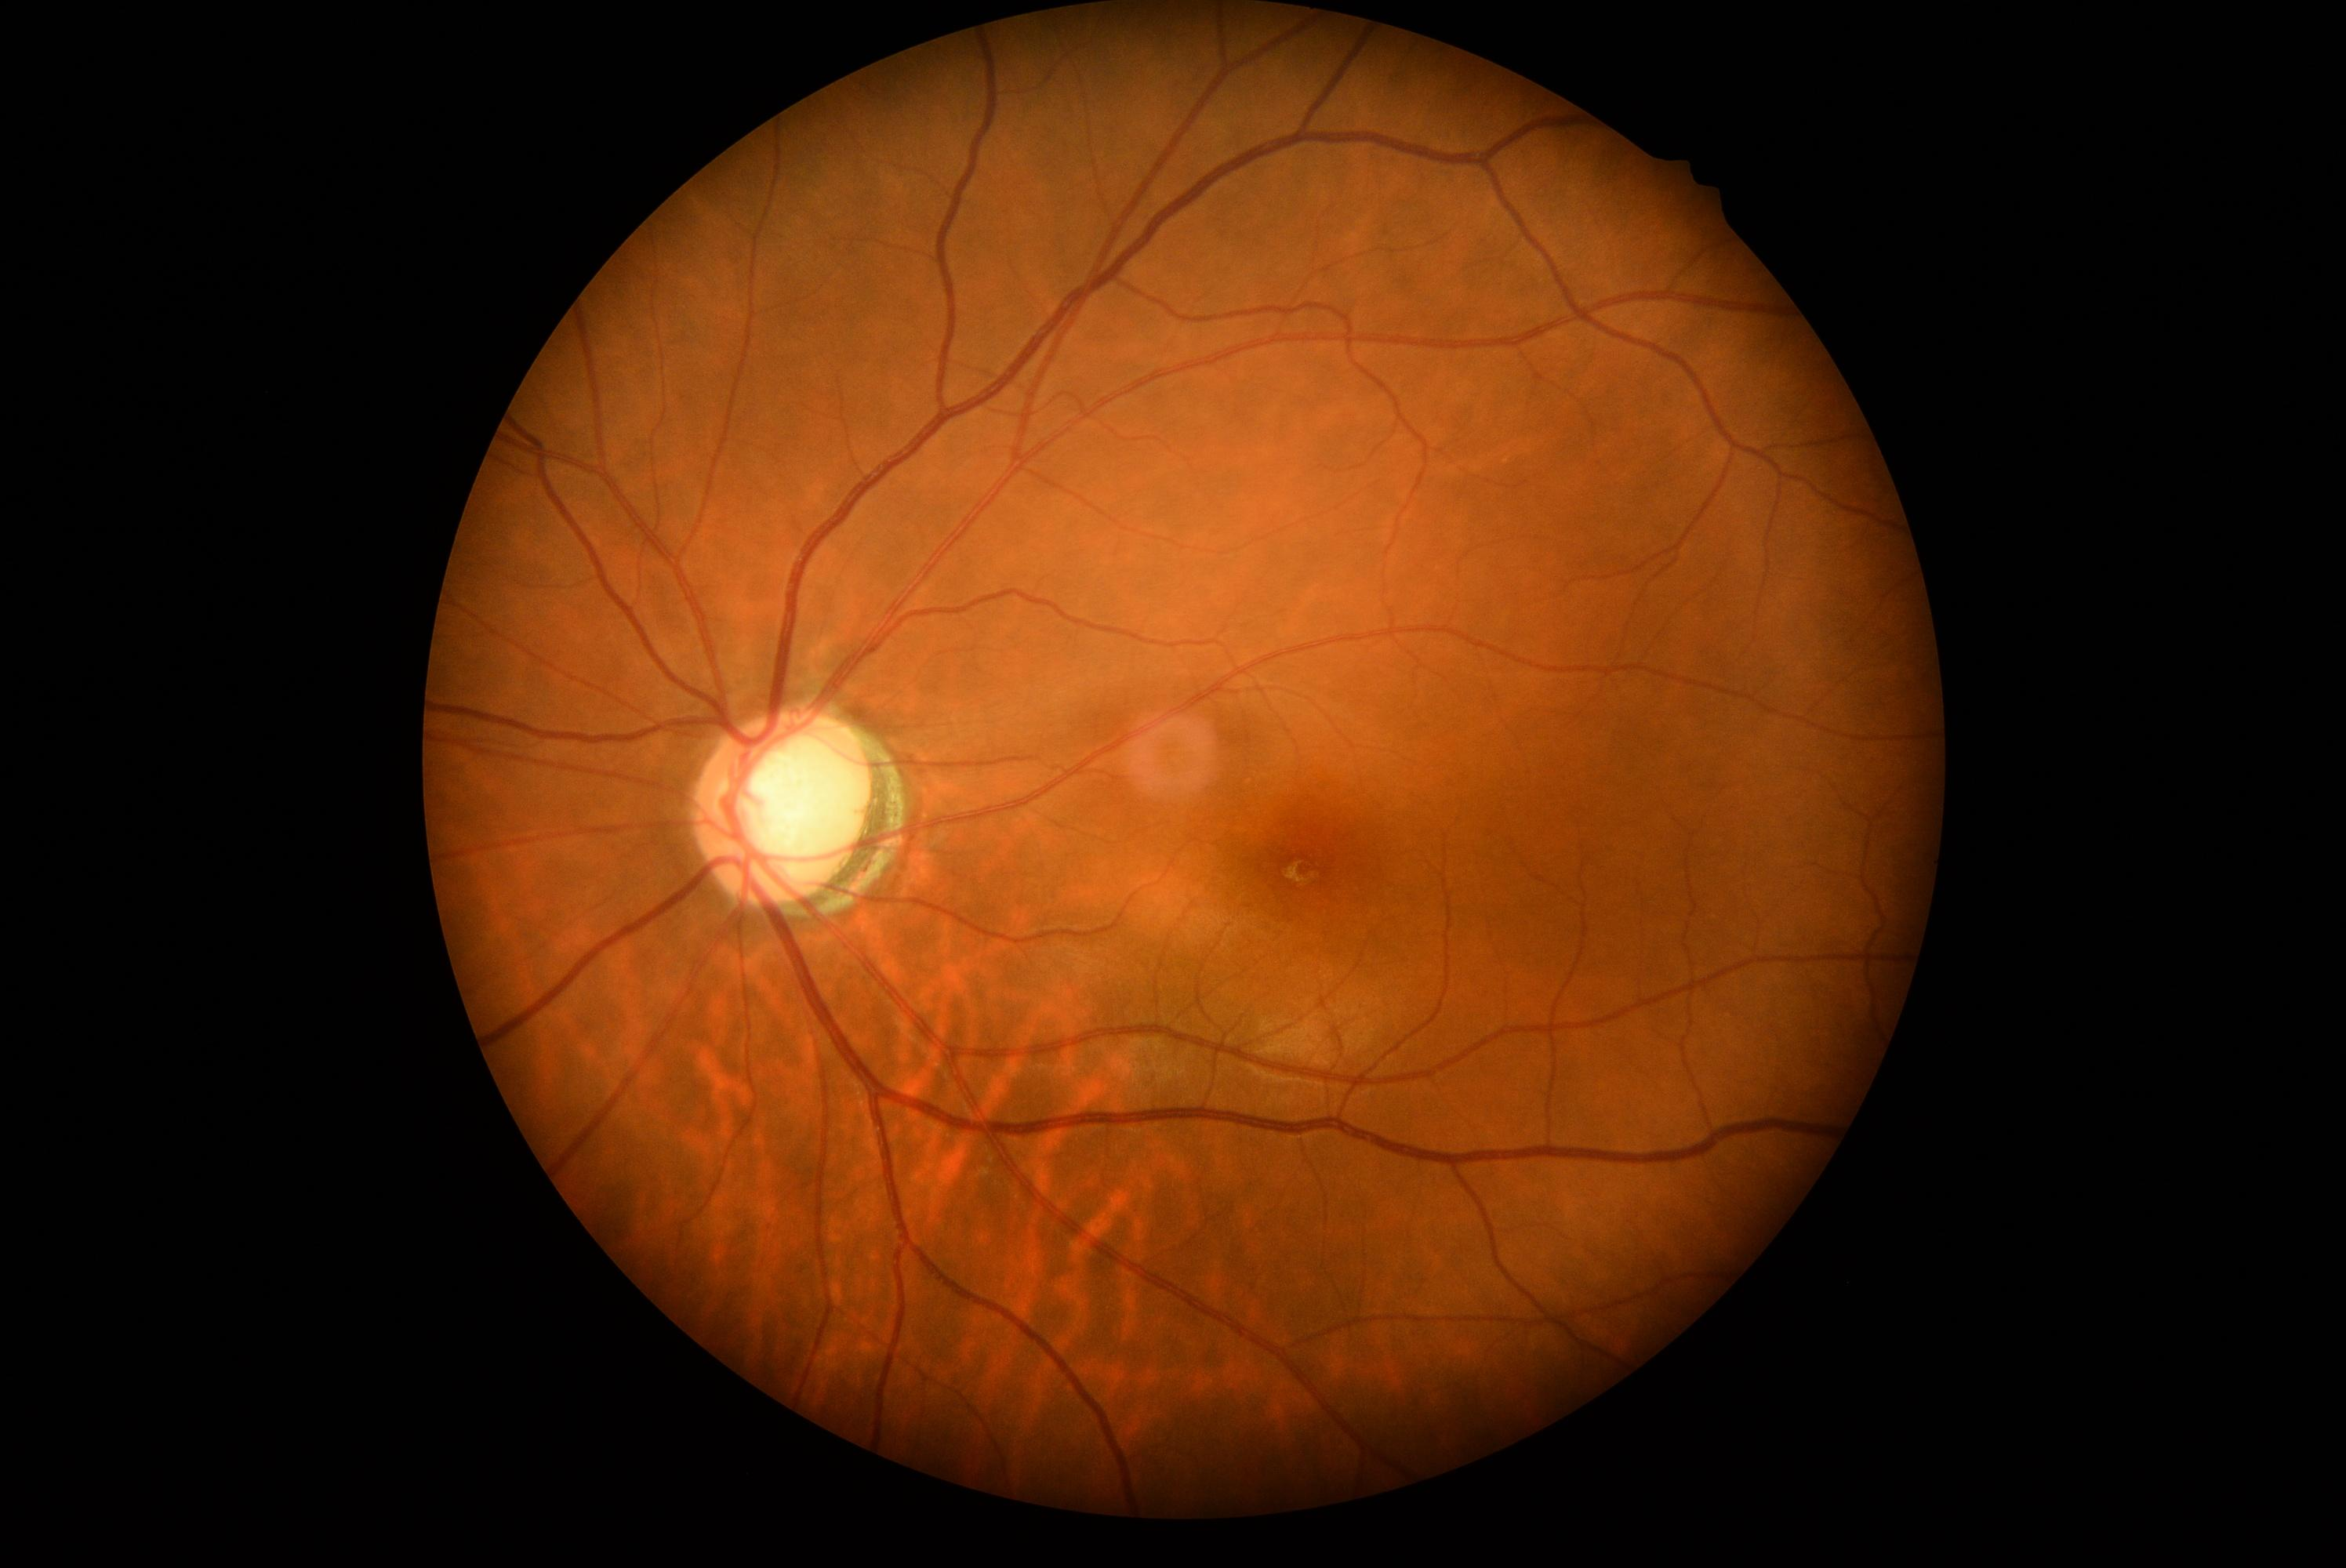Fovea: (1223, 789, 1377, 941)
